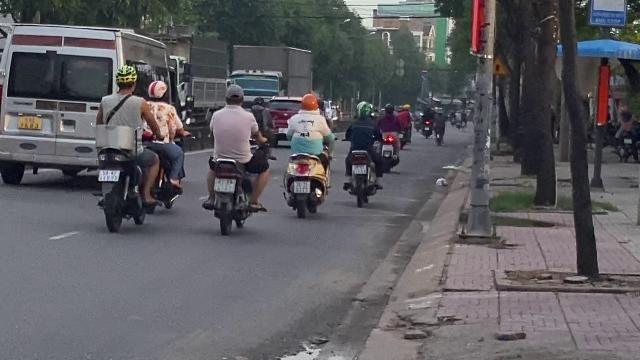helmet: (113, 64, 137, 92), (299, 92, 319, 112), (147, 80, 167, 100)
licenseplate: (213, 178, 234, 192), (99, 170, 119, 180), (294, 182, 310, 192)
motorcyclist: (91, 63, 163, 232), (200, 84, 270, 234), (279, 92, 335, 218)
nohelmet: (223, 84, 244, 106)
